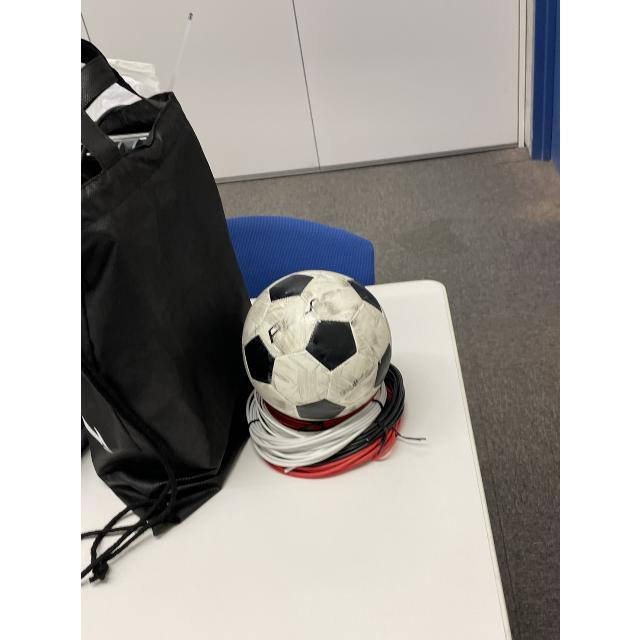ball: (238, 269, 389, 427)
